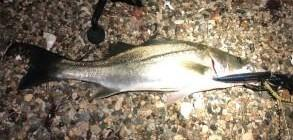fish: (22, 40, 255, 96)
